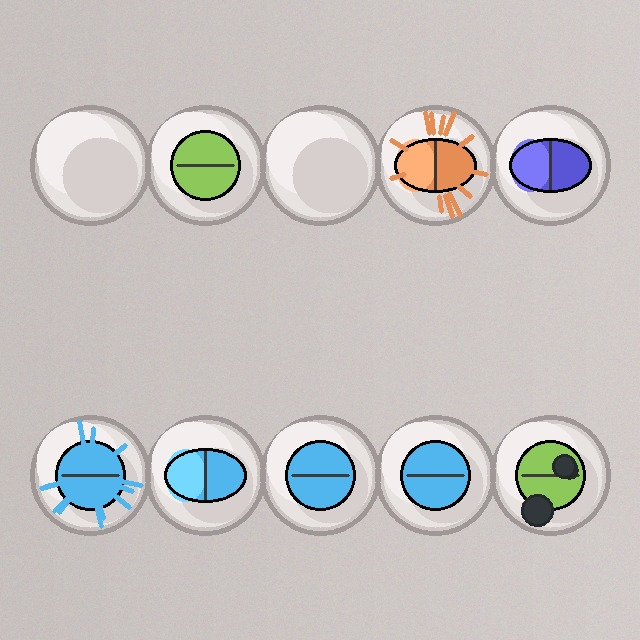flash: (373, 103, 497, 227), (28, 413, 152, 537)
missing: (28, 103, 152, 227), (258, 103, 382, 227)
stain: (488, 413, 612, 537)
